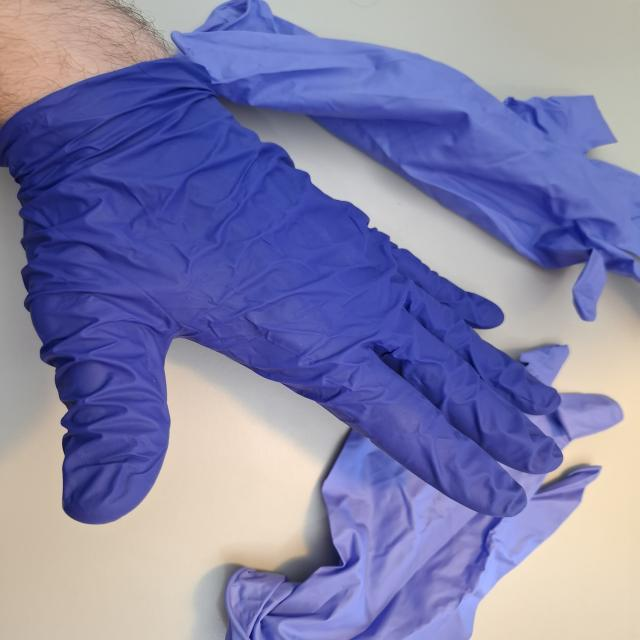glove_on: (0, 61, 568, 527)
